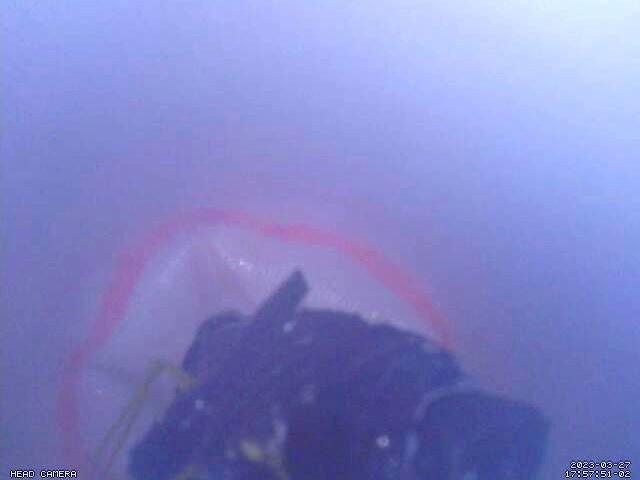head: (55, 204, 451, 480)
